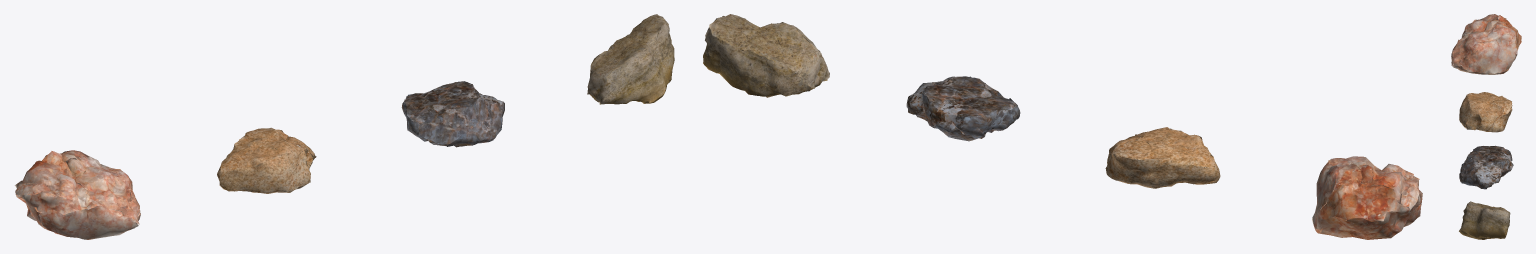
File: namaqualand_rocks_01.glb
3 views of the same model, side by side, from view 1: azimuth 30°, elevation 25°; view 2: azimuth 150°, elevation 25°; view 3: azimuth 270°, elevation 25° (orthographic). The views are drawn at different scales.
Parts seen in each view (by area): view 1: model; view 2: model; view 3: model.
Boxes of the visible parts, x1=… form: model: x1=15, y1=14, x2=674, y2=239; model: x1=703, y1=14, x2=1422, y2=239; model: x1=1451, y1=14, x2=1521, y2=239.
Bounding box in the file's own units: 1.45 × 0.1531 × 0.2158.
1 material, 1 textured.
